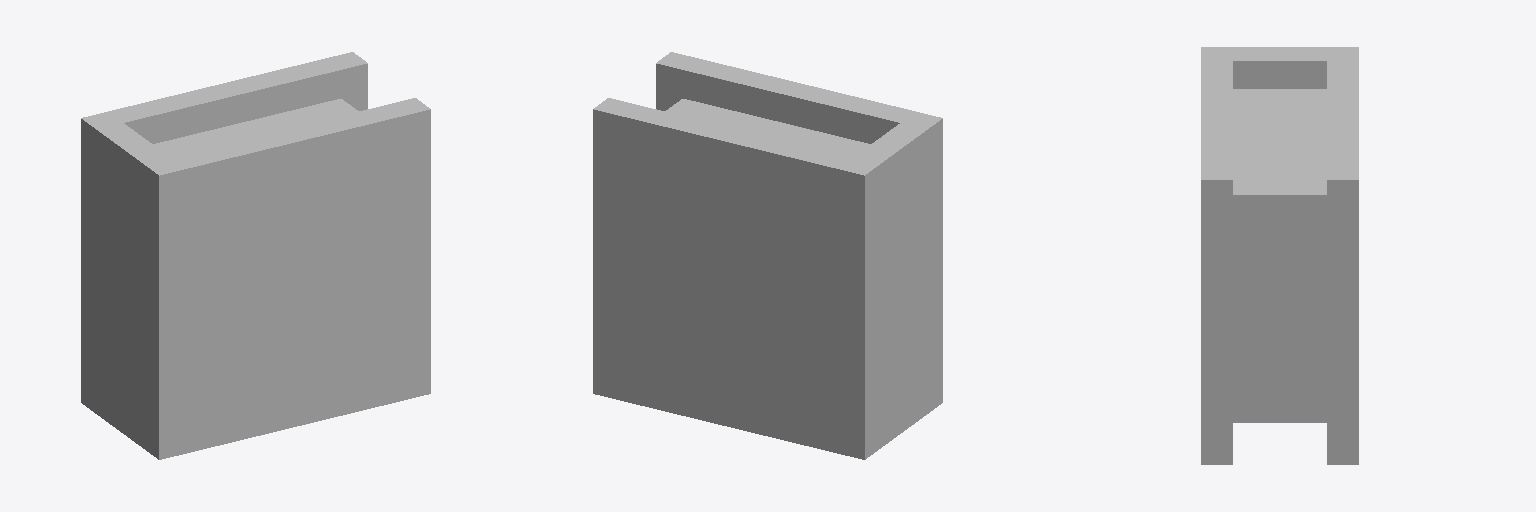
File: Book2.obj
3 renders of one model, left to right at view 1: azimuth 30°, elevation 25°; view 2: azimuth 150°, elevation 25°; view 3: azimuth 270°, elevation 25°, orthographic.
Visible parts, largest first — view 1: object 1; view 2: object 1; view 3: object 1.
Boxes of the visible parts, box(x1,y1,x2,y2) form: object 1: box(81, 52, 430, 459); object 1: box(593, 52, 942, 459); object 1: box(1201, 47, 1358, 464).
Size of the model in its own units: 1 by 1 by 0.5.